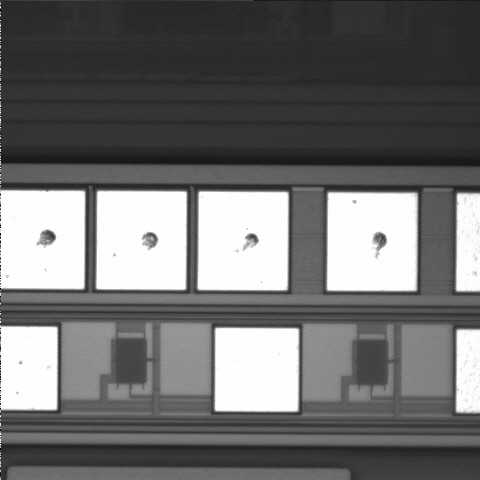pad: (96, 191, 187, 290), (198, 192, 288, 290), (327, 193, 417, 291), (215, 328, 299, 411)
